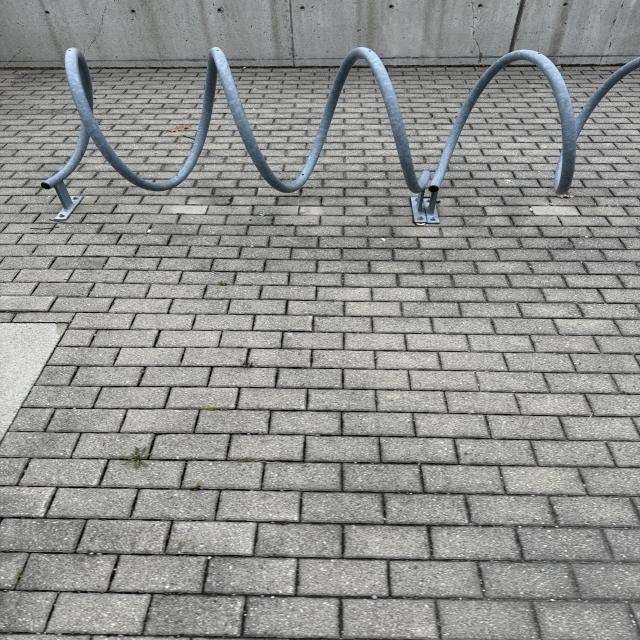Bicycle Rack: (37, 45, 640, 219)
